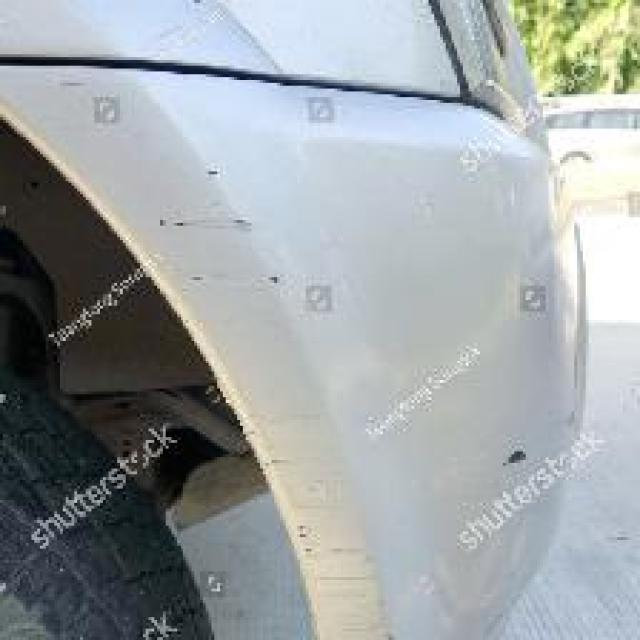bumper_scratch_minor: (57, 0, 557, 506)
